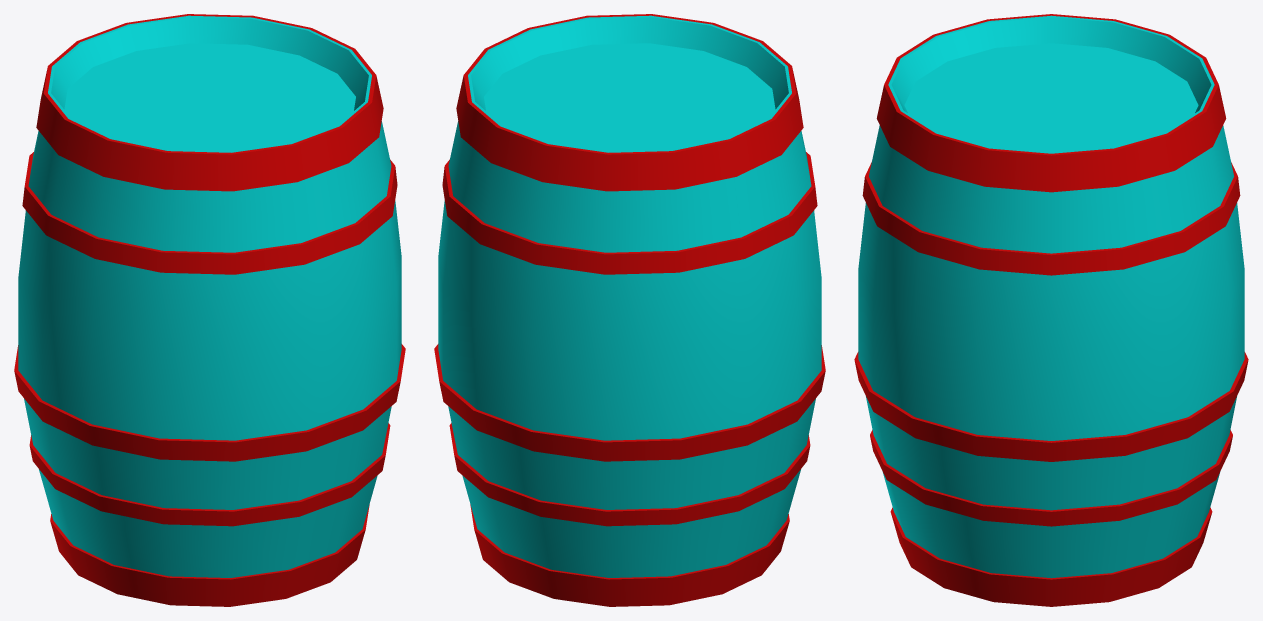
Rendered from SM_barrel.fbx.
3 renders of one model, left to right at view 1: azimuth 30°, elevation 25°; view 2: azimuth 150°, elevation 25°; view 3: azimuth 270°, elevation 25°, orthographic.
Parts seen in each view (by area): view 1: Cylinder; view 2: Cylinder; view 3: Cylinder.
Part boxes in pixels (x1,y1,x2,y2): Cylinder: (14,14,405,606); Cylinder: (434,14,825,606); Cylinder: (854,14,1248,606).
Bounding box in the file's own units: 82.14 × 105 × 82.14.
